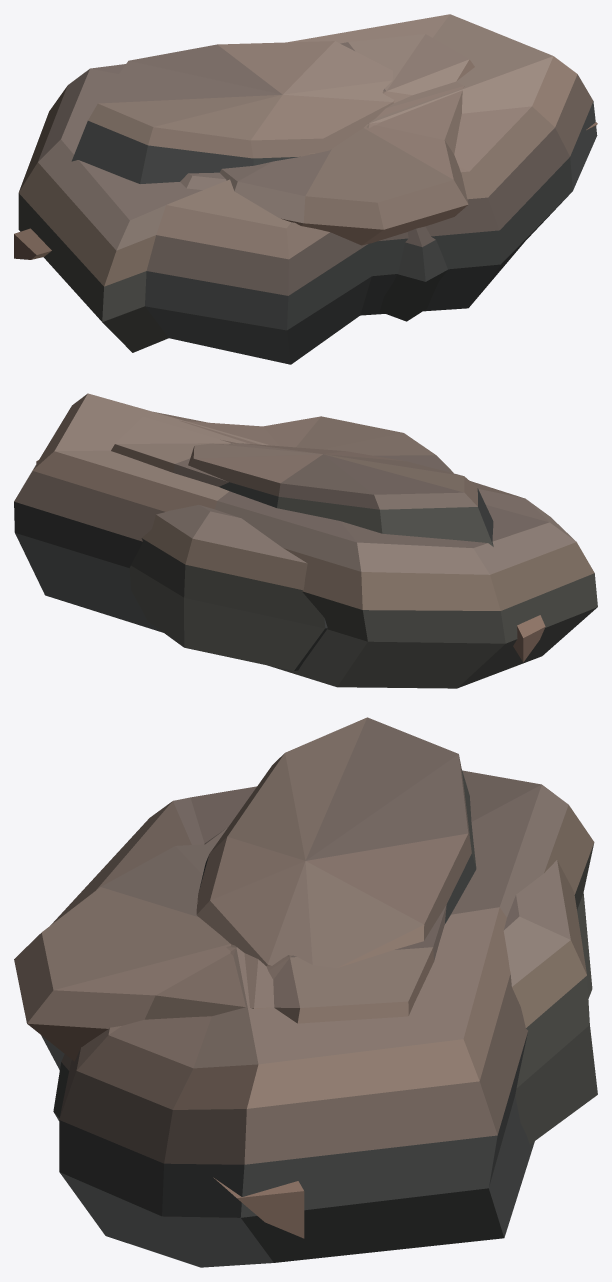
File: cascade-rocks.glb
3 views of the same model, one above another, from view 1: azimuth 30°, elevation 25°; view 2: azimuth 150°, elevation 25°; view 3: azimuth 270°, elevation 25° (orthographic). The views are drawn at different scales.
Visible parts, largest first — view 1: cascade-terrace, cascade-high-ledge, cascade-angled-shelf; view 2: cascade-terrace, cascade-angled-shelf, cascade-high-ledge; view 3: cascade-terrace, cascade-high-ledge, cascade-angled-shelf.
Boxes of the visible parts, x1=… form: cascade-terrace: x1=18, y1=14, x2=597, y2=364; cascade-high-ledge: x1=14, y1=81, x2=597, y2=259; cascade-angled-shelf: x1=180, y1=34, x2=474, y2=321; cascade-terrace: x1=14, y1=393, x2=597, y2=688; cascade-angled-shelf: x1=111, y1=417, x2=327, y2=670; cascade-high-ledge: x1=36, y1=416, x2=545, y2=662; cascade-terrace: x1=41, y1=717, x2=594, y2=1267; cascade-high-ledge: x1=14, y1=843, x2=304, y2=1238; cascade-angled-shelf: x1=53, y1=827, x2=597, y2=1144.
Size of the model in its own units: 11.59 by 4.6 by 7.43.
